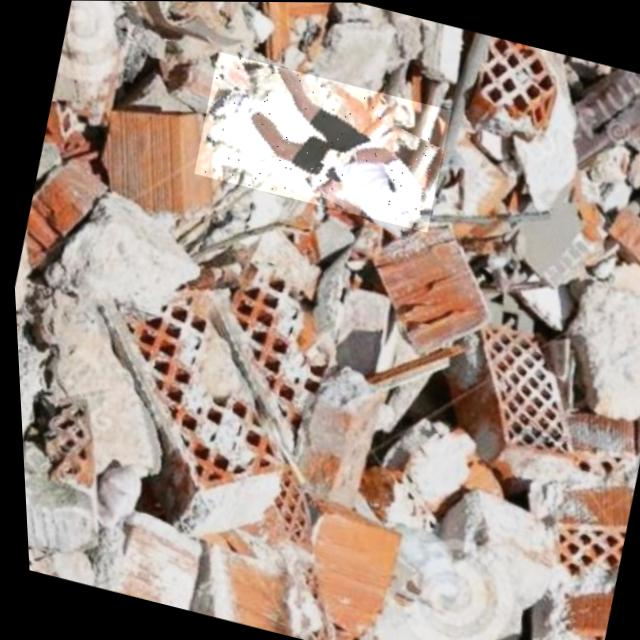Person in Rubble: (186, 50, 453, 232)
